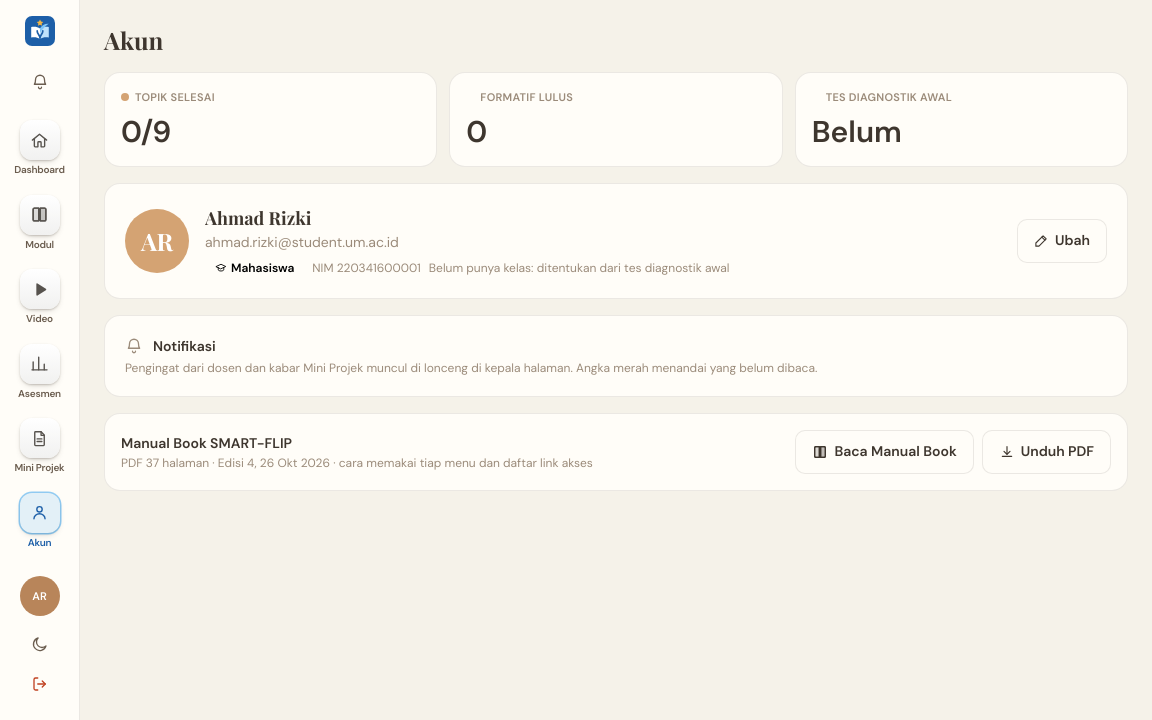
Akun › tombol Ubah membuka modal ubah profil
This screenshot has width=1152, height=720.
Check: the text "Ubah Profil" is not shown
What coordinates should you click on to do the following:
click the button "Ubah"
I would click on:
 (1062, 240)
Its box is [1017,218,1107,262].
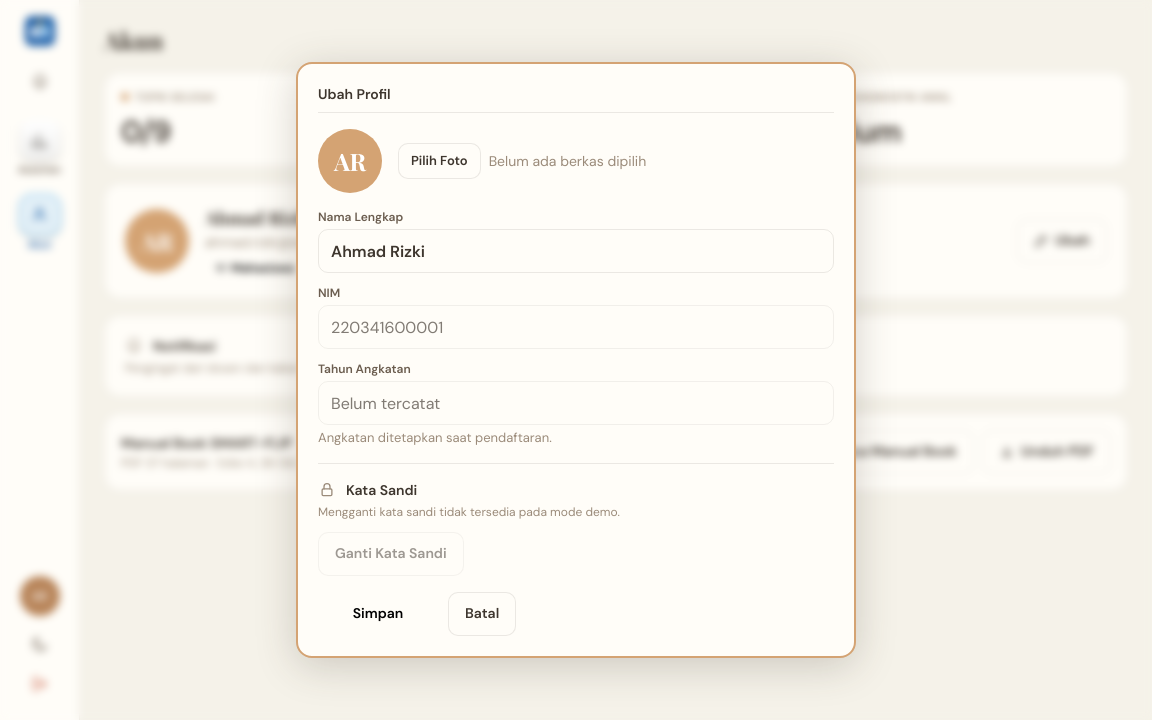
Check: the text "Ubah Profil" is shown, box [318,84,834,113]
Check: the field showing "Ahmad Rizki" is shown, box [318,229,834,273]
